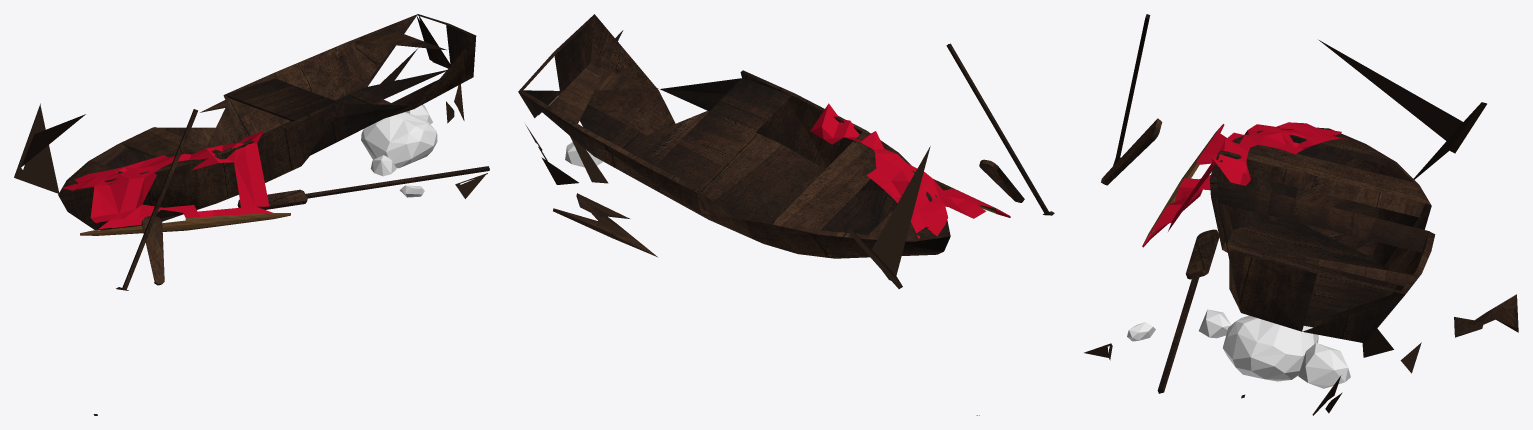
The model's file is sunkenship_test.fbx.
3 views of the same model, side by side, from view 1: azimuth 30°, elevation 25°; view 2: azimuth 150°, elevation 25°; view 3: azimuth 270°, elevation 25° (orthographic). The views are drawn at different scales.
Visible parts, largest first — view 1: ship, flag, rock, paddle, broken; view 2: ship, flag, broken, paddle; view 3: ship, rock, broken, flag, paddle.
Boxes of the visible parts, x1,y1,x2,y2 form: ship: (58, 14, 476, 230); flag: (62, 131, 290, 235); rock: (361, 104, 437, 197); paddle: (93, 109, 489, 415); broken: (14, 48, 487, 198); ship: (518, 14, 950, 258); flag: (810, 103, 1010, 238); broken: (525, 124, 930, 288); paddle: (946, 43, 1054, 415); ship: (1209, 127, 1435, 343); rock: (1127, 309, 1350, 388); broken: (1084, 40, 1518, 415); flag: (1142, 122, 1354, 247); paddle: (1101, 14, 1244, 398).
Bounding box in the file's own units: 20.67 × 14.67 × 13.63.
Materials: 5 (4 with a texture image).
